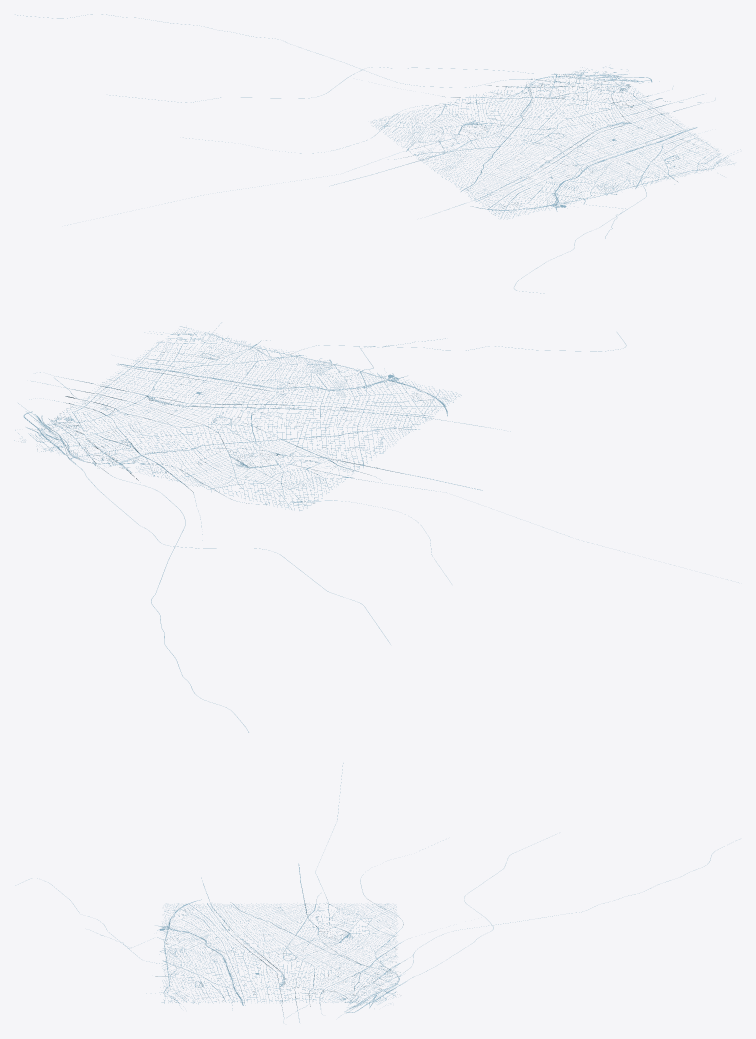
The model's file is roads.glb.
3 views of the same model, one above another, from view 1: azimuth 30°, elevation 25°; view 2: azimuth 150°, elevation 25°; view 3: azimuth 270°, elevation 25° (orthographic). The views are drawn at different scales.
Parts seen in each view (by area): view 1: roads; view 2: roads; view 3: roads.
Part boxes in pixels (x1,y1,x2,y2): roads: [15, 14, 740, 293]; roads: [14, 322, 738, 732]; roads: [15, 763, 739, 1022].
Bounding box in the file's own units: 24627 × 56.15 × 28747.
